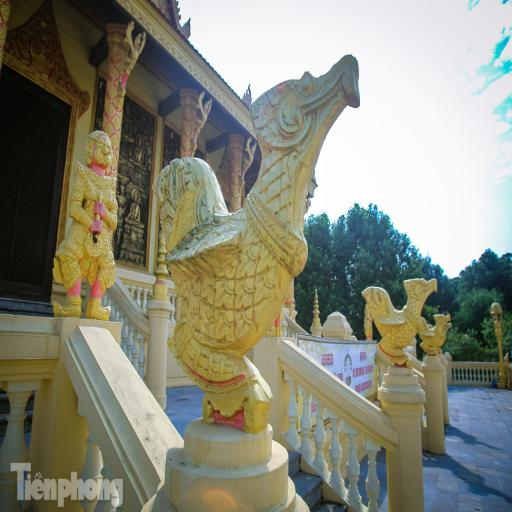hoa: (104, 122, 115, 136), (112, 114, 121, 131), (108, 85, 118, 99), (110, 66, 119, 81), (106, 103, 115, 117), (112, 132, 119, 149), (112, 152, 118, 169), (102, 114, 108, 128), (233, 173, 239, 185), (233, 162, 240, 172), (185, 125, 191, 136), (184, 141, 190, 152), (182, 119, 188, 129), (181, 132, 187, 142), (179, 148, 185, 158), (234, 200, 240, 210), (104, 94, 108, 108), (107, 78, 111, 92), (234, 187, 239, 198), (113, 55, 119, 64), (230, 158, 236, 166), (238, 156, 242, 166), (231, 183, 235, 192), (231, 170, 235, 179), (238, 196, 242, 204), (236, 171, 240, 179), (106, 168, 111, 174), (230, 197, 234, 204), (188, 150, 192, 156), (114, 169, 117, 177)
than: (55, 134, 121, 317), (120, 28, 150, 89), (188, 96, 214, 143), (237, 141, 259, 177), (130, 129, 148, 170), (129, 189, 145, 227)
